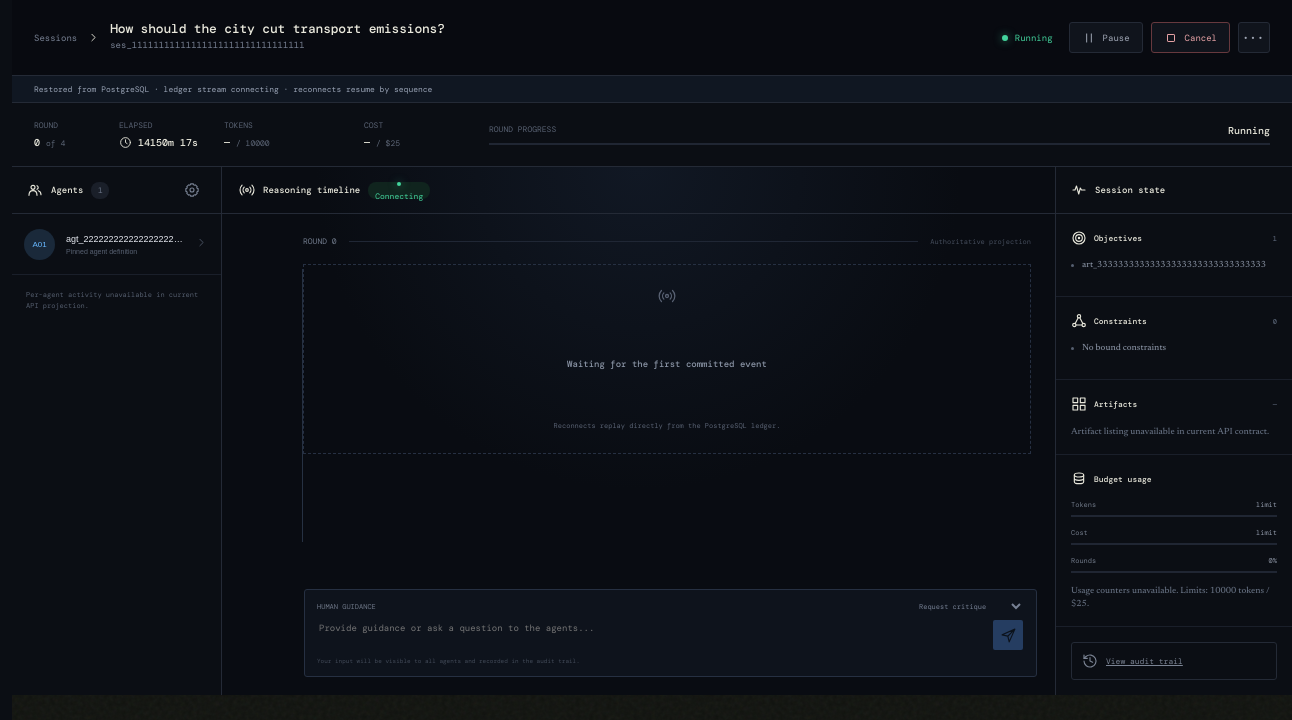
Scenario: ReasoningPage live console › submits typed human guidance to a running API session
The image size is (1292, 720).
Select "Add constraint" in the dropdown named "Guidance type" at [970, 607], box [915,601,1024,612]
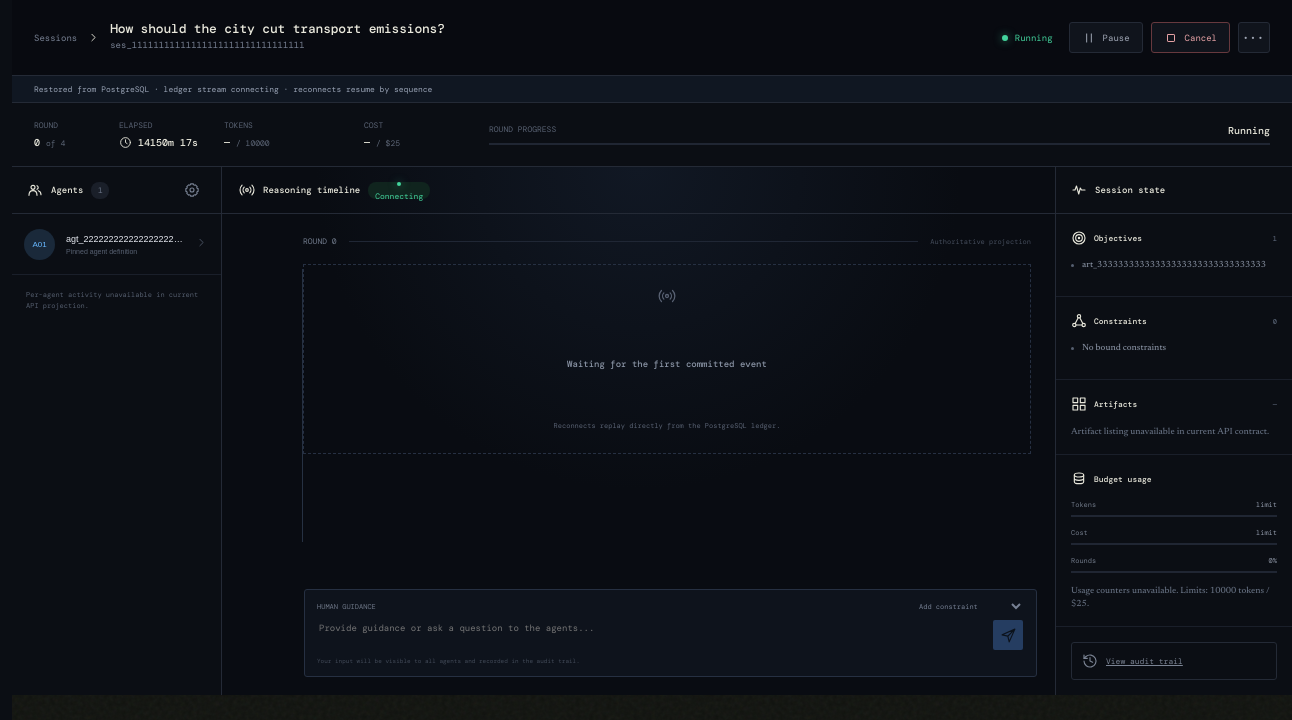
Type "Prioritize protected cycle lanes." into the text box labelled "Human guidance" at [651, 636], box [317,620,985,651]
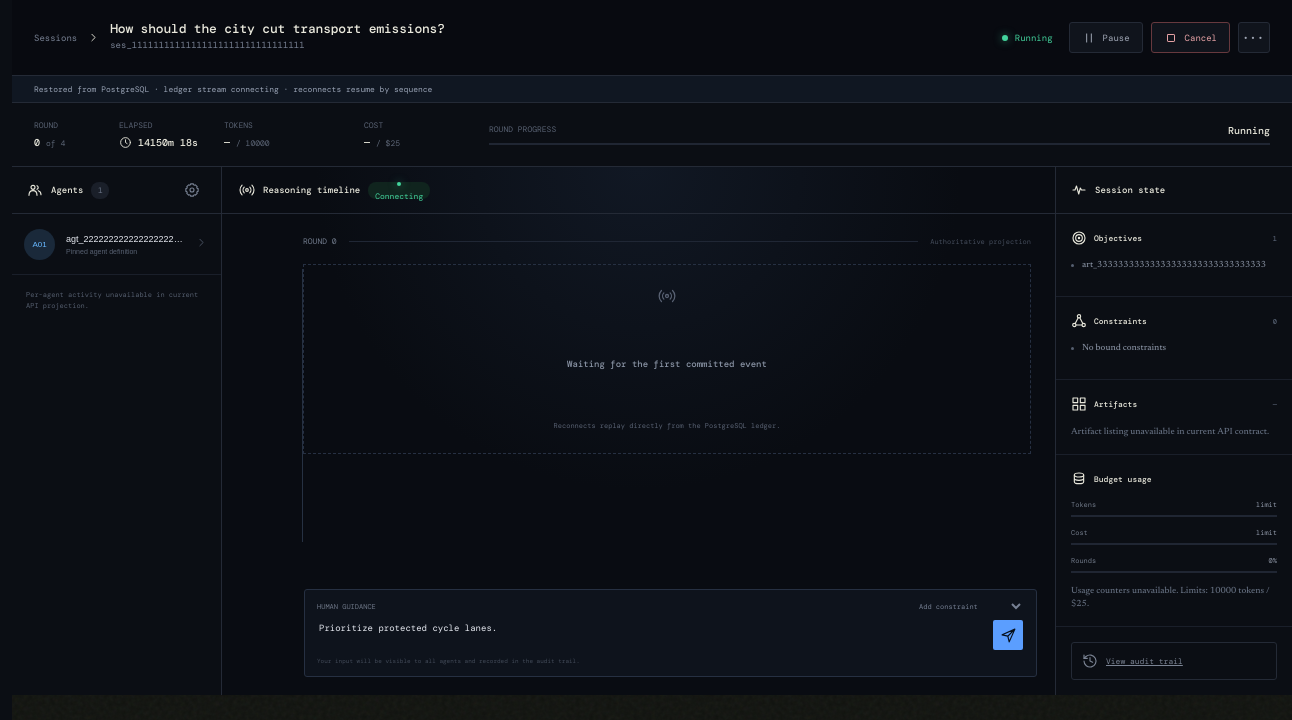
Click the button named "Send guidance" at [1008, 635], box [993,620,1023,650]
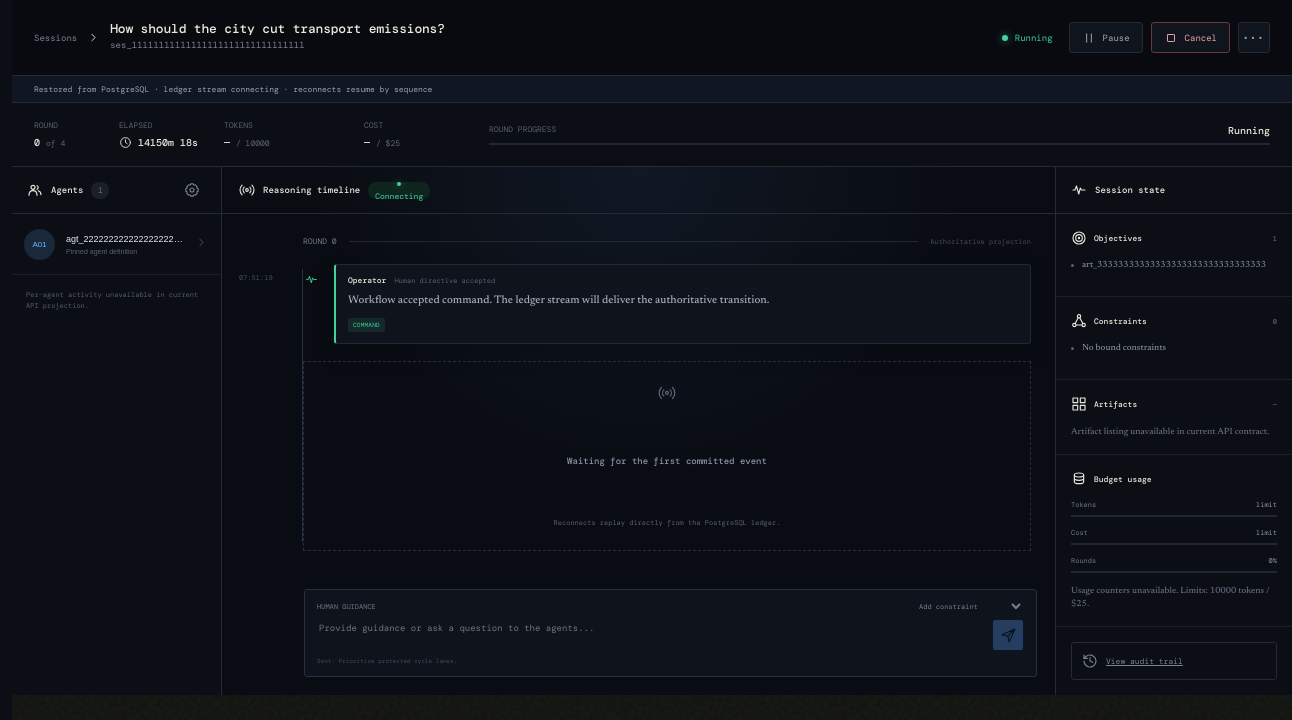
Now the text "Sent: Prioritize protected cycle lanes." is shown, box [317,657,457,665]
